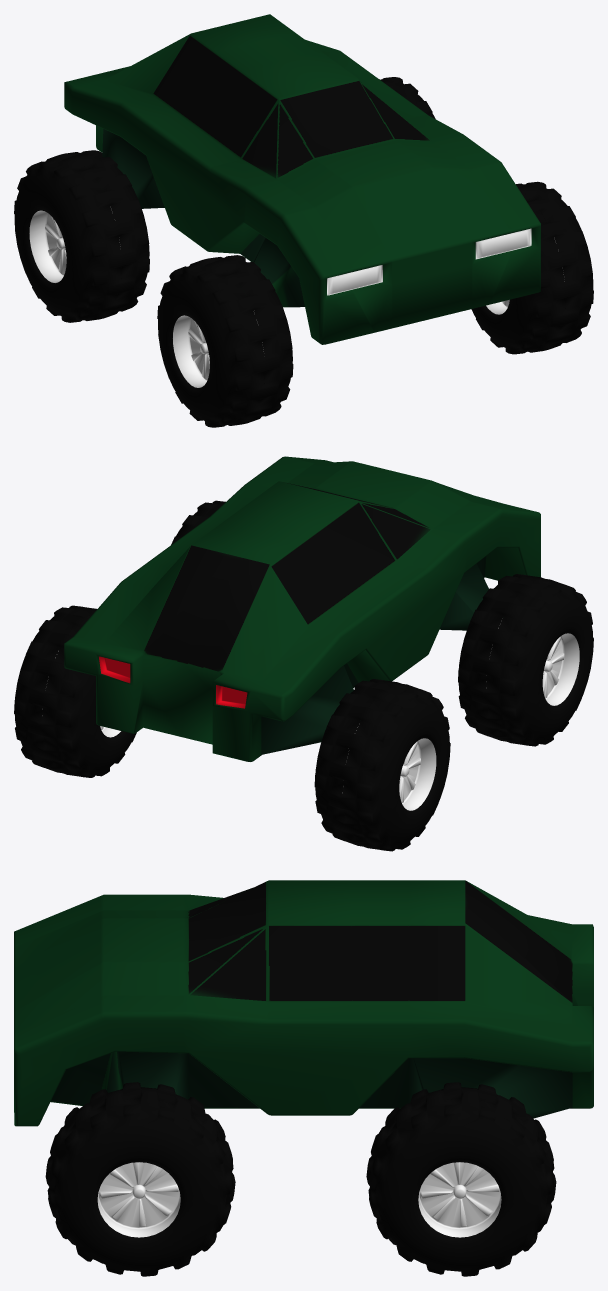
Rendered from MoonRover1.glb.
The picture shows the model from 3 angles, top to bottom: view 1: azimuth 30°, elevation 25°; view 2: azimuth 150°, elevation 25°; view 3: azimuth 270°, elevation 25°; orthographic projection. The views are drawn at different scales.
Visible parts, largest first — view 1: buggy_body, wheel_left_rear.001, wheel_left_front.001, wheel_left_front, wheel_left_rear; view 2: buggy_body, wheel_left_rear.001, wheel_left_front.001, wheel_left_rear, wheel_left_front; view 3: buggy_body, wheel_left_front, wheel_left_rear.
Part boxes in pixels (bbox=[...]): buggy_body: bbox=[64, 14, 540, 344]; wheel_left_rear.001: bbox=[14, 150, 149, 322]; wheel_left_front.001: bbox=[157, 255, 293, 427]; wheel_left_front: bbox=[471, 181, 593, 354]; wheel_left_rear: bbox=[379, 77, 435, 118]; buggy_body: bbox=[64, 456, 540, 761]; wheel_left_rear.001: bbox=[314, 679, 450, 851]; wheel_left_front.001: bbox=[458, 574, 593, 746]; wheel_left_rear: bbox=[14, 605, 136, 777]; wheel_left_front: bbox=[171, 500, 225, 544]; buggy_body: bbox=[14, 880, 593, 1126]; wheel_left_front: bbox=[45, 1082, 235, 1276]; wheel_left_rear: bbox=[366, 1082, 556, 1276].
Size of the model in its own units: 5.73 by 3.68 by 6.87.
Materials: 2 (2 with a texture image).
